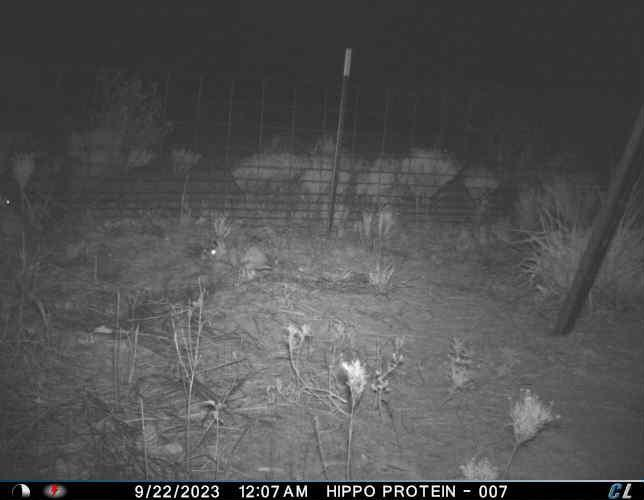Rabbit: (205, 231, 269, 274)
